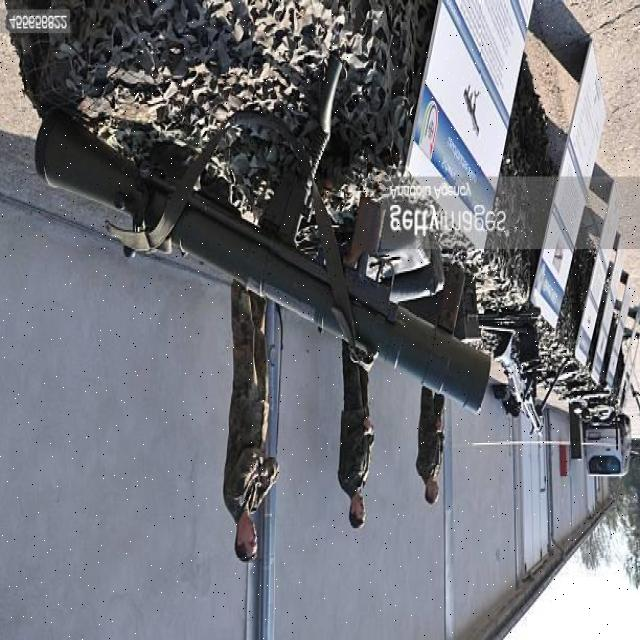bazooka: (32, 104, 498, 420)
